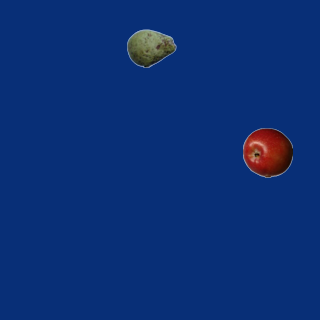Apple Braeburn: (242, 127, 292, 177)
Pear Stone: (126, 23, 176, 73)
